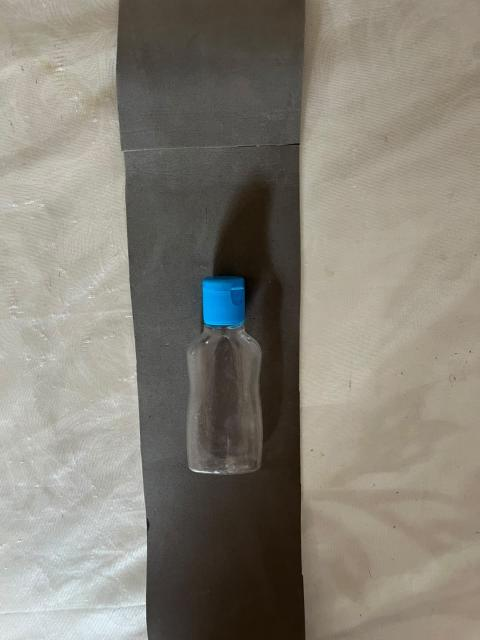PET: (114, 236, 333, 542)
